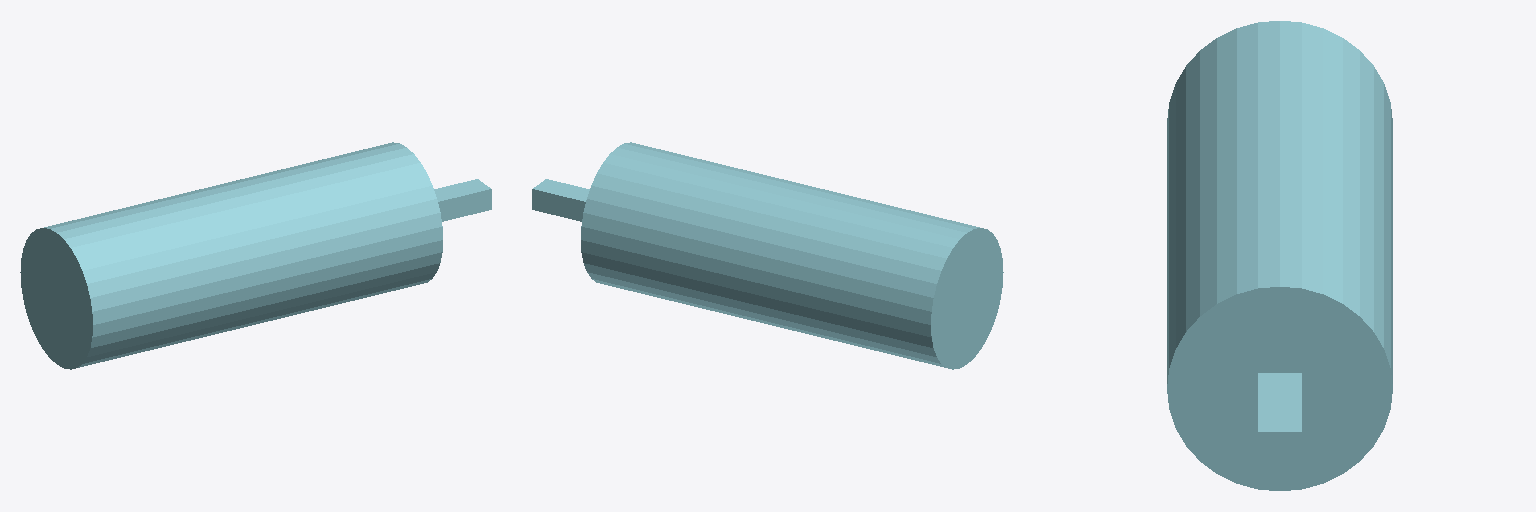
URDF robot description (cylinder_marker_v4001):
<?xml version="1.0"?>
<robot name="cylinder_marker_v4001">

  <link name="cylinder_marker_v4001">
    <!-- Handle -->
    <visual>
      <origin xyz="0 0 0" rpy="0 1.5707963267948966 0"/>
      <geometry>
        <cylinder length="0.12972642815080335" radius="0.0232948959787935"/>
      </geometry>
      <material name="material">
        <color rgba="0.639 0.847 0.882 1.0"/>
      </material>
    </visual>
    <collision>
      <origin xyz="0 0 0" rpy="0 1.5707963267948966 0"/>
      <geometry>
        <cylinder length="0.12972642815080335" radius="0.0232948959787935"/>
      </geometry>
    </collision>

    <!-- Head -->
    <visual>
      <origin xyz="0.0792246139437863 0 0" rpy="0 0 0"/>
      <geometry>
        <box size="0.028722799736769243 0.008901507469546962 0.0073968478206227015"/>
      </geometry>
      <material name="material">
        <color rgba="0.639 0.847 0.882 1.0"/>
      </material>
    </visual>
    <collision>
      <origin xyz="0.0792246139437863 0 0" rpy="0 0 0"/>
      <geometry>
        <box size="0.028722799736769243 0.008901507469546962 0.0073968478206227015"/>
      </geometry>
    </collision>

    <inertial>
      <density value="400.0"/>
    </inertial>
  </link>

</robot>

--- Facts derived from the render (not from the file) ---
The picture shows the robot from 3 angles, left to right: view 1: azimuth 30°, elevation 25°; view 2: azimuth 150°, elevation 25°; view 3: azimuth 270°, elevation 25°; orthographic projection.
Robot: cylinder_marker_v4001 — 1 links, 0 joints (none); root link cylinder_marker_v4001; default pose: all joints at 0.
Visible links, largest first — view 1: cylinder_marker_v4001; view 2: cylinder_marker_v4001; view 3: cylinder_marker_v4001.
Link boxes in pixels (left/top/right/bottom): cylinder_marker_v4001: left=20, top=142, right=491, bottom=369; cylinder_marker_v4001: left=532, top=142, right=1003, bottom=369; cylinder_marker_v4001: left=1167, top=21, right=1392, bottom=490.
Size in the robot's own frame: 0.1584 by 0.0466 by 0.0466 metres.
Geometry: primitives only (box / cylinder / sphere), no mesh files.
